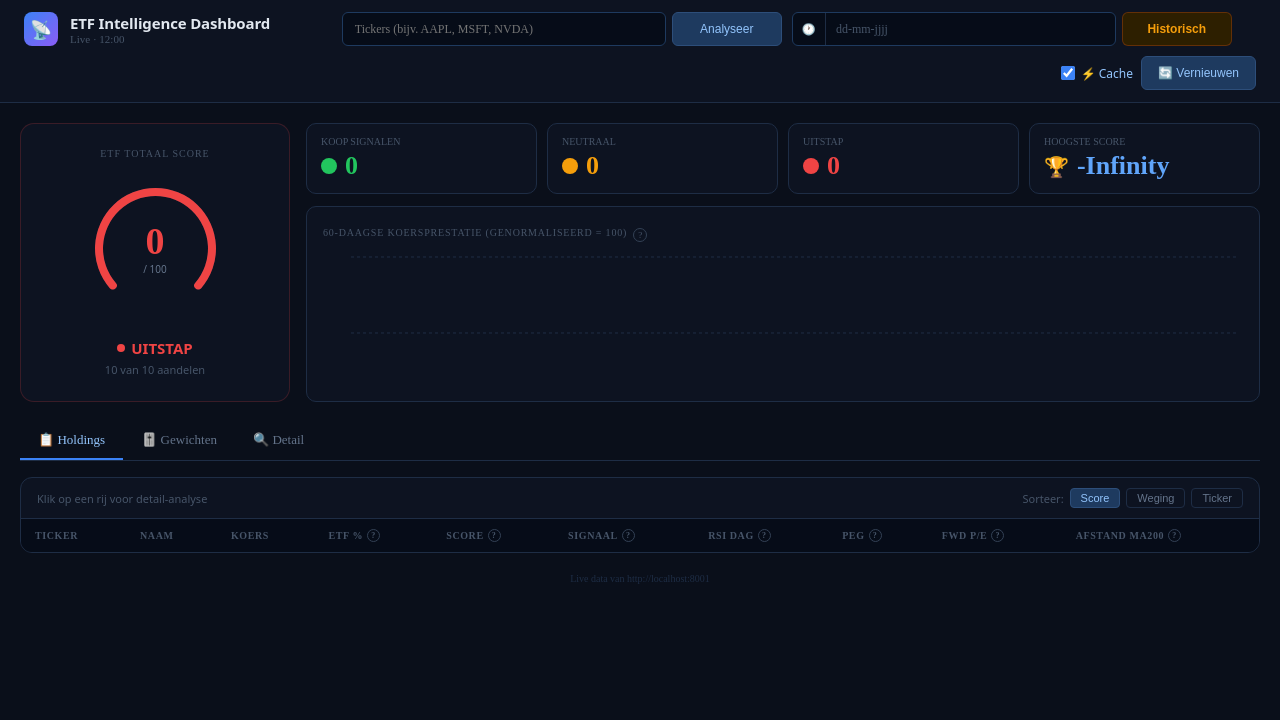
it: Cache toggle › heeft een tooltip met uitleg over 60 minuten
Hover over the text "⚡ Cache" at {"x": 1097, "y": 73}, box 1061,64 -> 1133,82
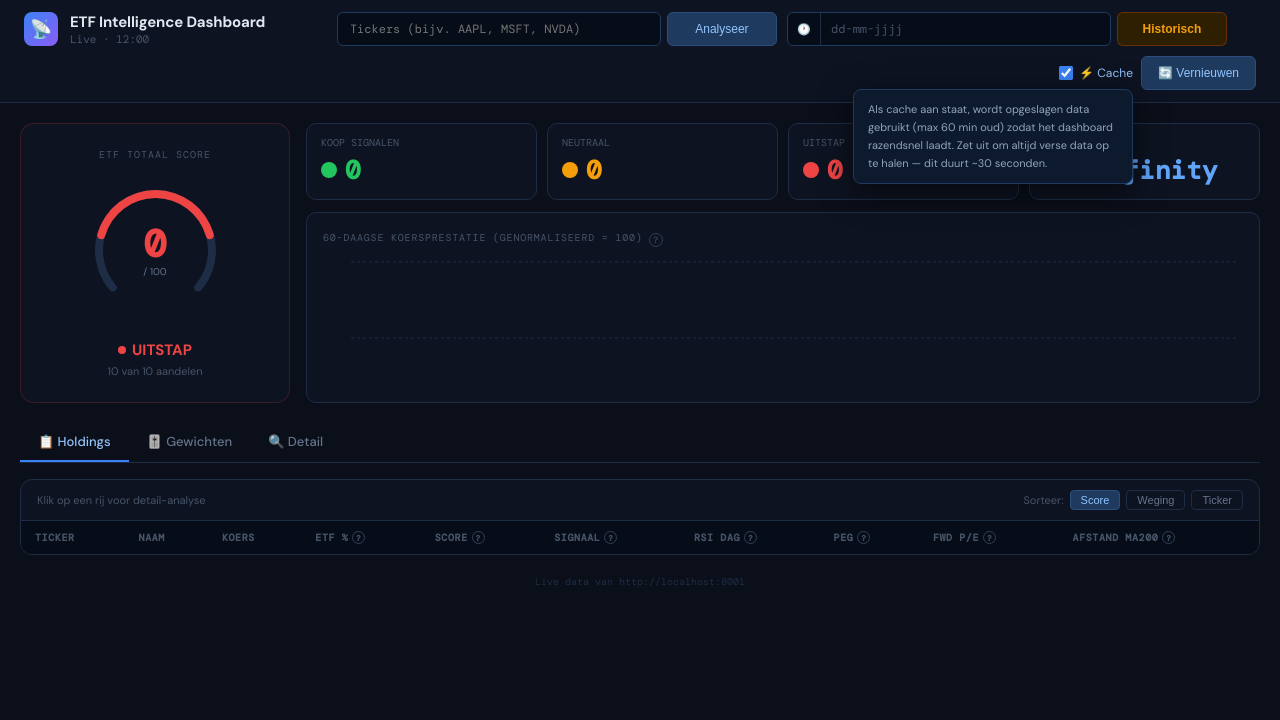
Now the text "60 min" is shown, box 868,102 -> 1113,170
